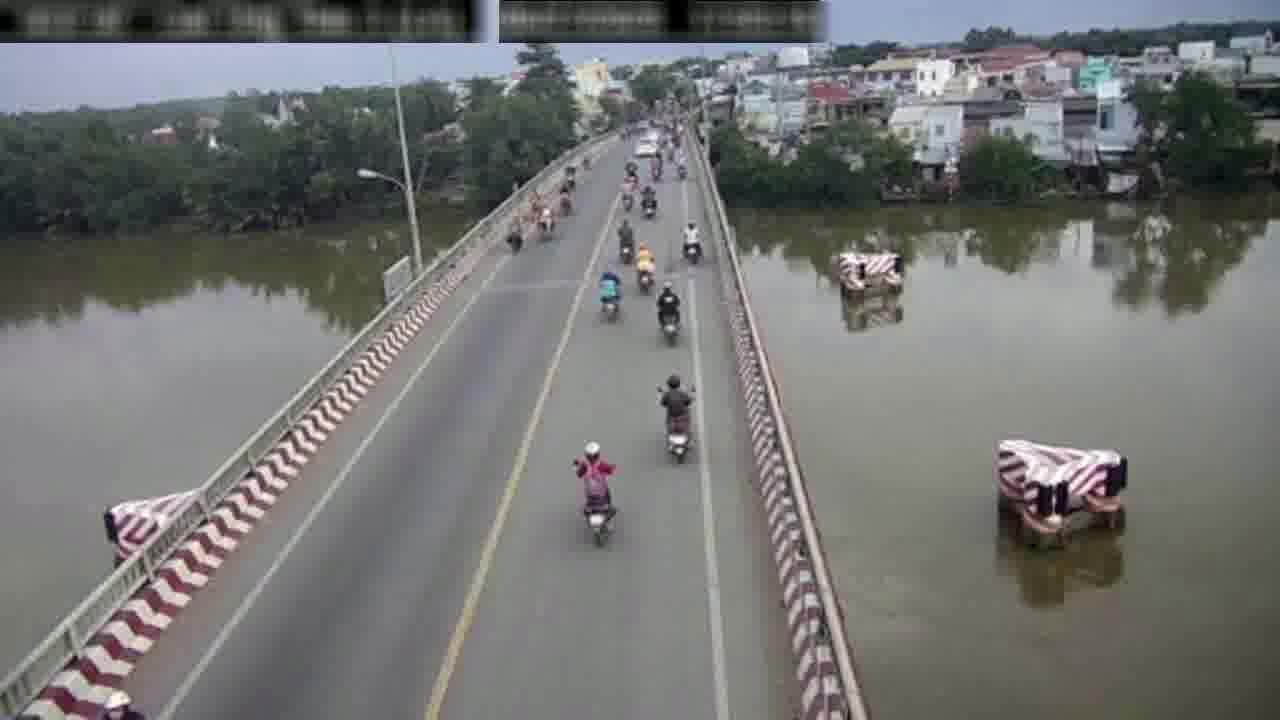motorbike: (572, 438, 619, 553), (656, 370, 701, 467), (654, 276, 685, 345), (598, 262, 623, 329), (634, 240, 656, 298), (682, 218, 704, 267), (536, 200, 557, 245), (506, 209, 524, 258), (616, 171, 637, 213), (617, 215, 634, 264), (638, 181, 659, 219), (558, 176, 574, 219)
